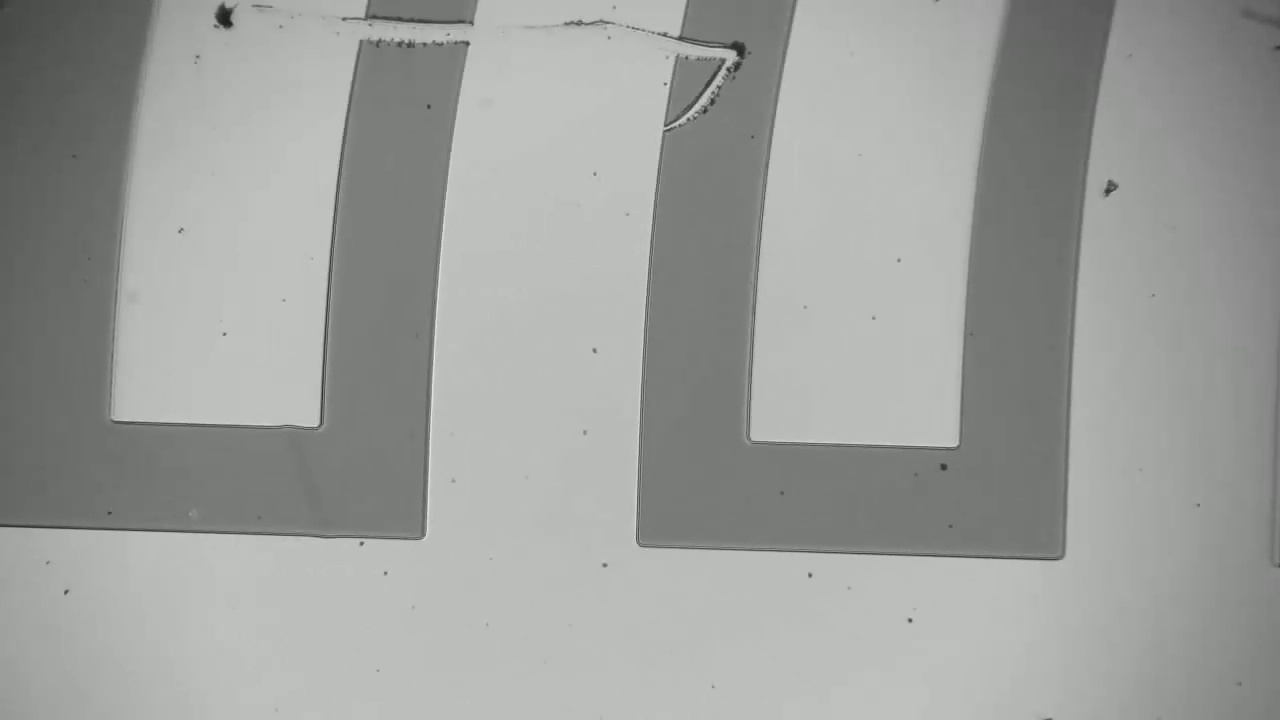Short_circuit: (653, 6, 803, 90), (340, 10, 487, 69)
